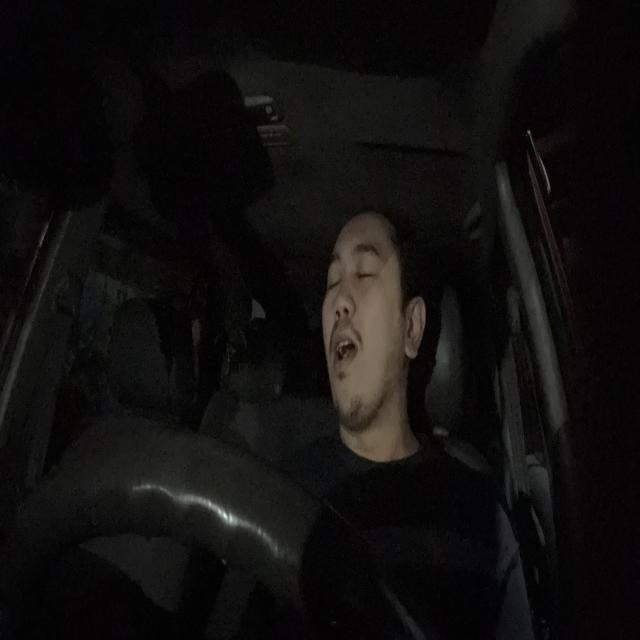close: (353, 241, 386, 289), (326, 247, 344, 293)
